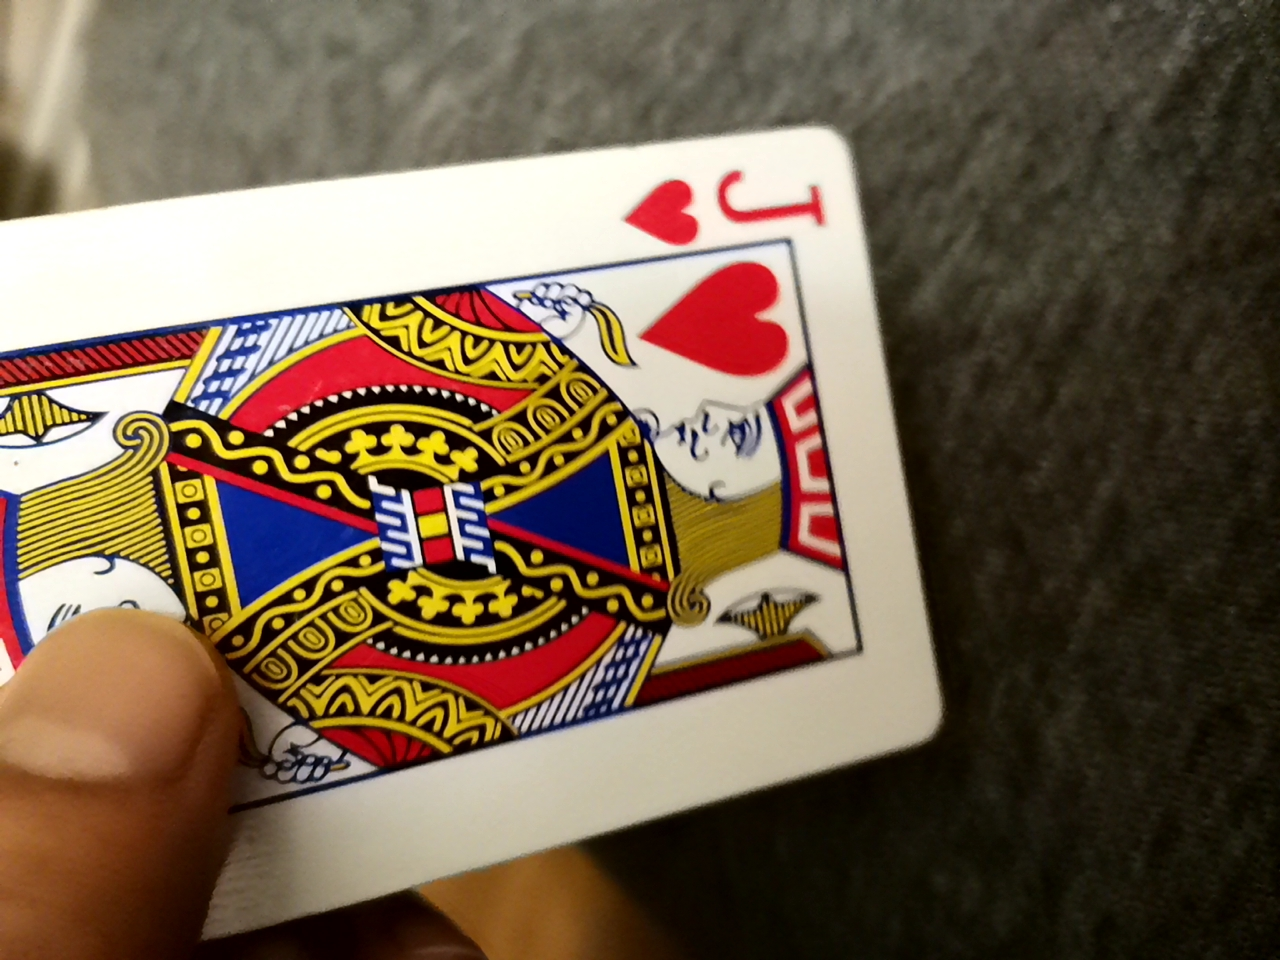hx j: (0, 132, 973, 923)
